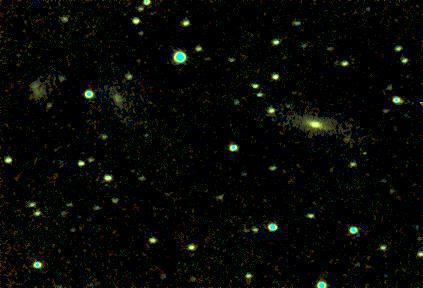star: (351, 137, 381, 167)
